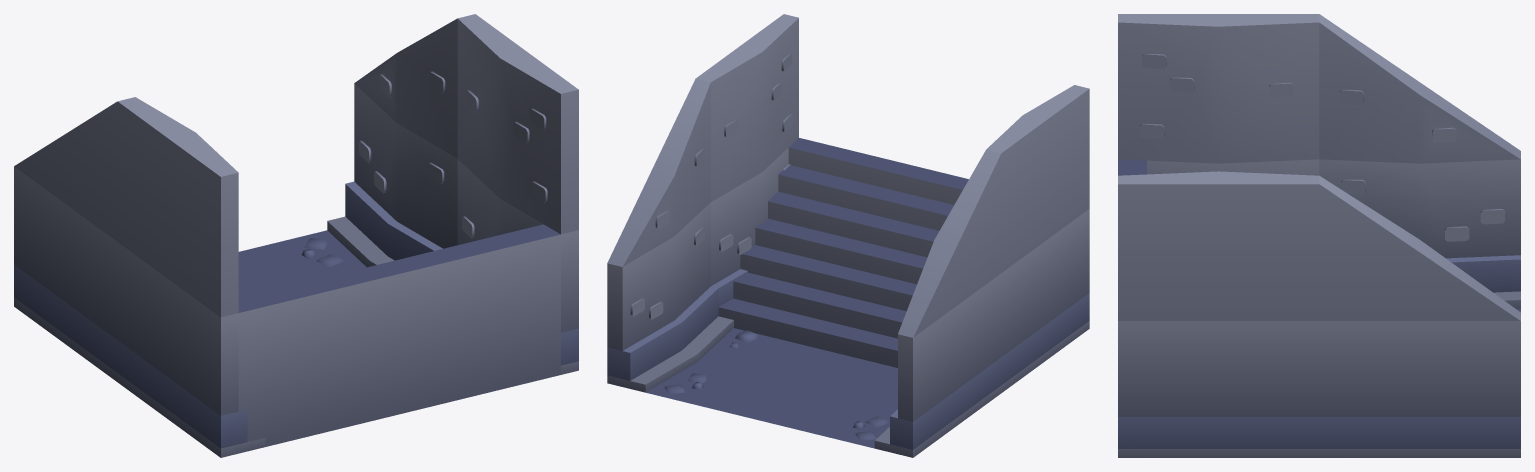
File: stairs-wide.fbx
3 views of the same model, side by side, from view 1: azimuth 30°, elevation 25°; view 2: azimuth 150°, elevation 25°; view 3: azimuth 270°, elevation 25° (orthographic). The views are drawn at different scales.
Parts seen in each view (by area): view 1: stairs-wide; view 2: stairs-wide; view 3: stairs-wide.
Boxes of the visible parts, <box> form: stairs-wide: <box>14,14,578,457</box>; stairs-wide: <box>607,14,1089,457</box>; stairs-wide: <box>1118,14,1520,457</box>.
Bounding box in the file's own units: 800 × 600 × 800.
Materials: 1 (1 with a texture image).
